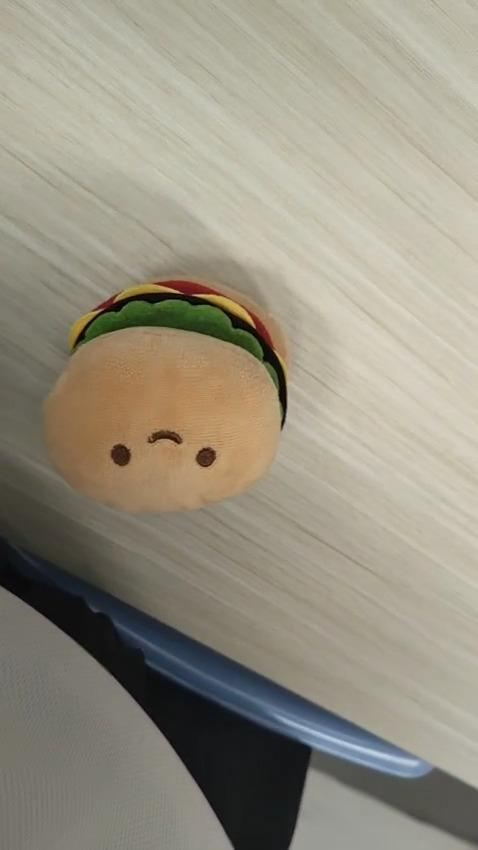hamburger: (41, 271, 298, 516)
